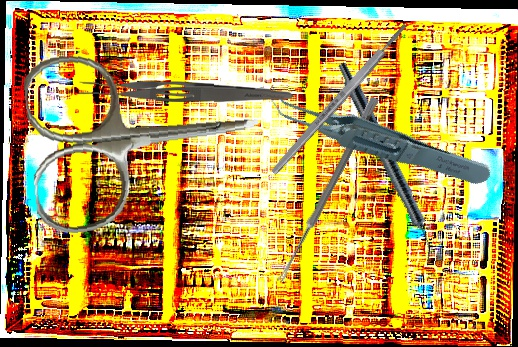Dressing Forceps: (76, 77, 294, 104)
Handpiece: (331, 59, 444, 264)
Iris Scissors: (21, 36, 268, 237)
Scalpel Handle: (269, 21, 410, 177)
Surgical Spoon: (276, 95, 379, 285)
Tissue Forceps: (261, 42, 495, 229)
